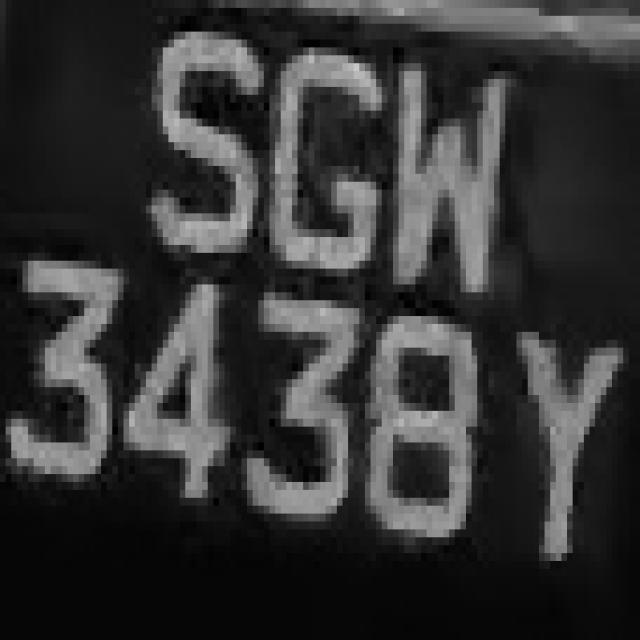3: (0, 221, 112, 505), (241, 276, 354, 514)
4: (107, 261, 247, 514)
8: (359, 276, 483, 576)
G: (264, 40, 382, 276)
S: (134, 16, 252, 276)
W: (382, 40, 516, 316)
Y: (505, 284, 618, 577)
